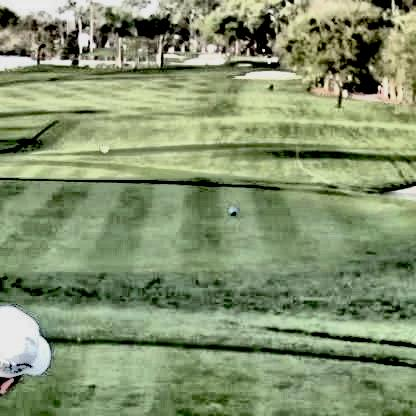golfball: (98, 142, 107, 151)
